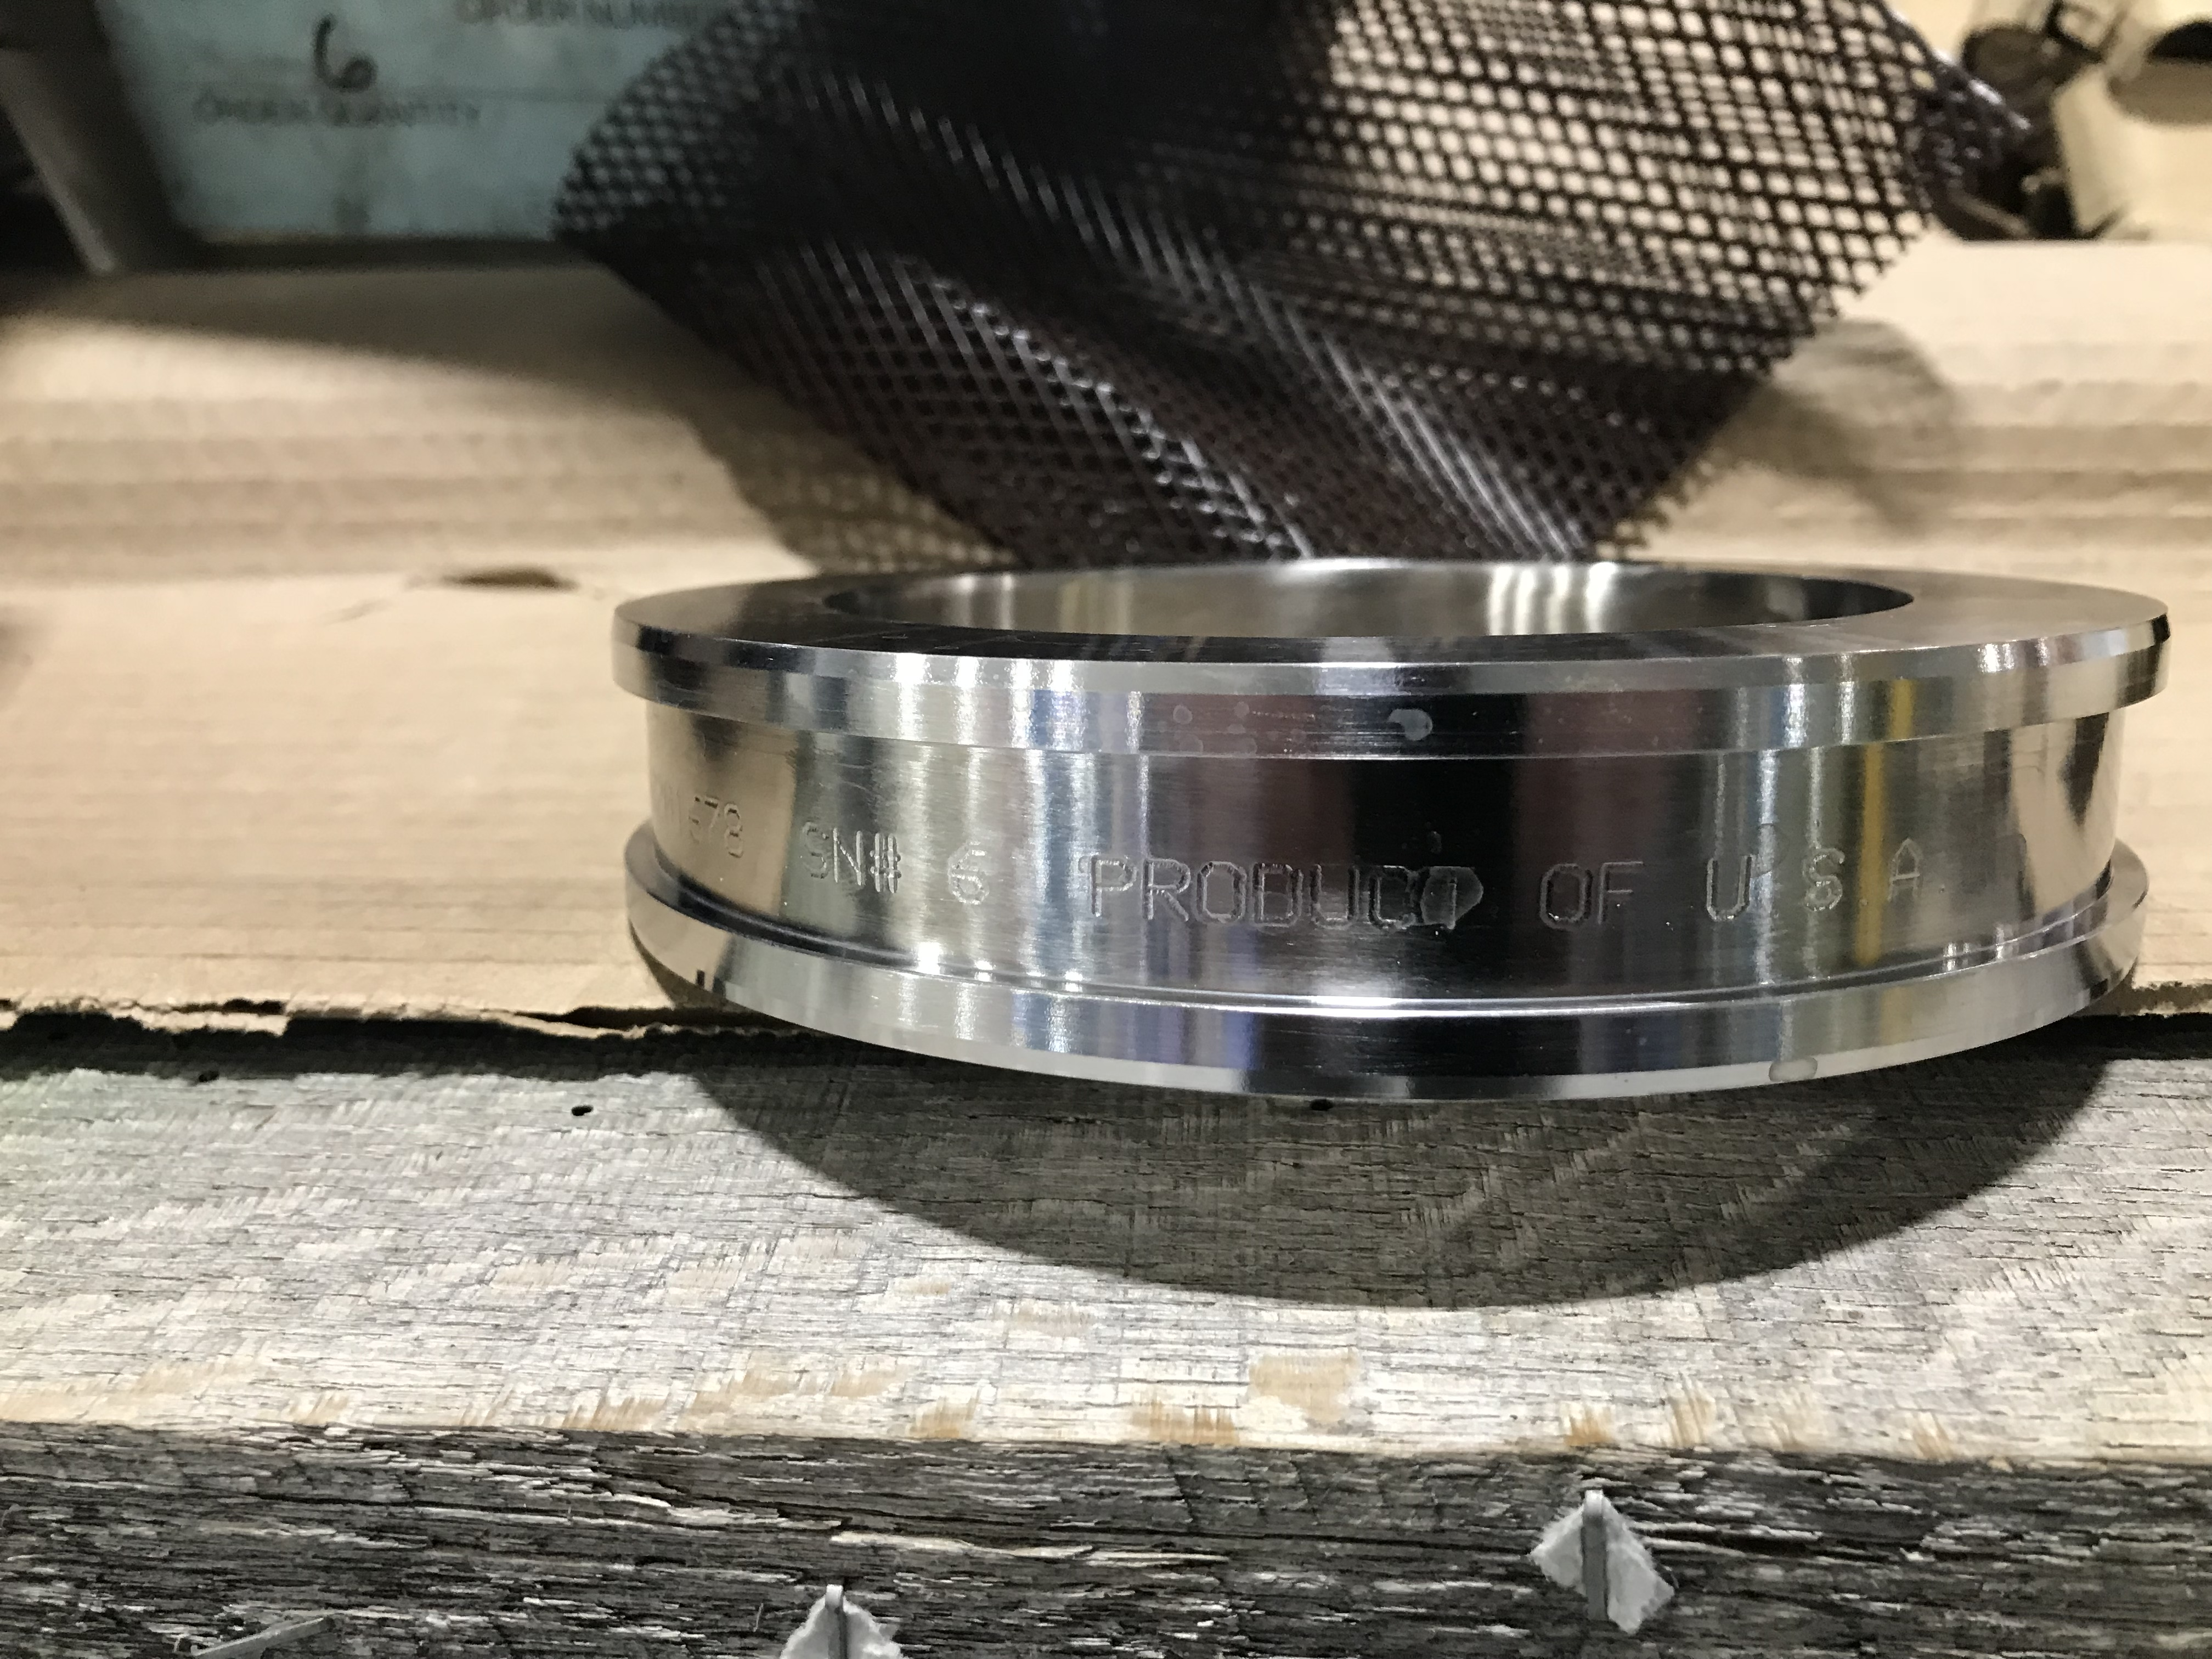character: (1303, 852, 1360, 939), (1700, 849, 1759, 932), (1536, 856, 1595, 934), (1252, 856, 1305, 943), (1190, 859, 1251, 932), (1136, 847, 1193, 922), (1428, 857, 1480, 939), (1799, 842, 1851, 922), (1087, 843, 1136, 925), (1371, 857, 1418, 939), (1597, 854, 1646, 932), (1881, 828, 1926, 910), (942, 840, 995, 910)
